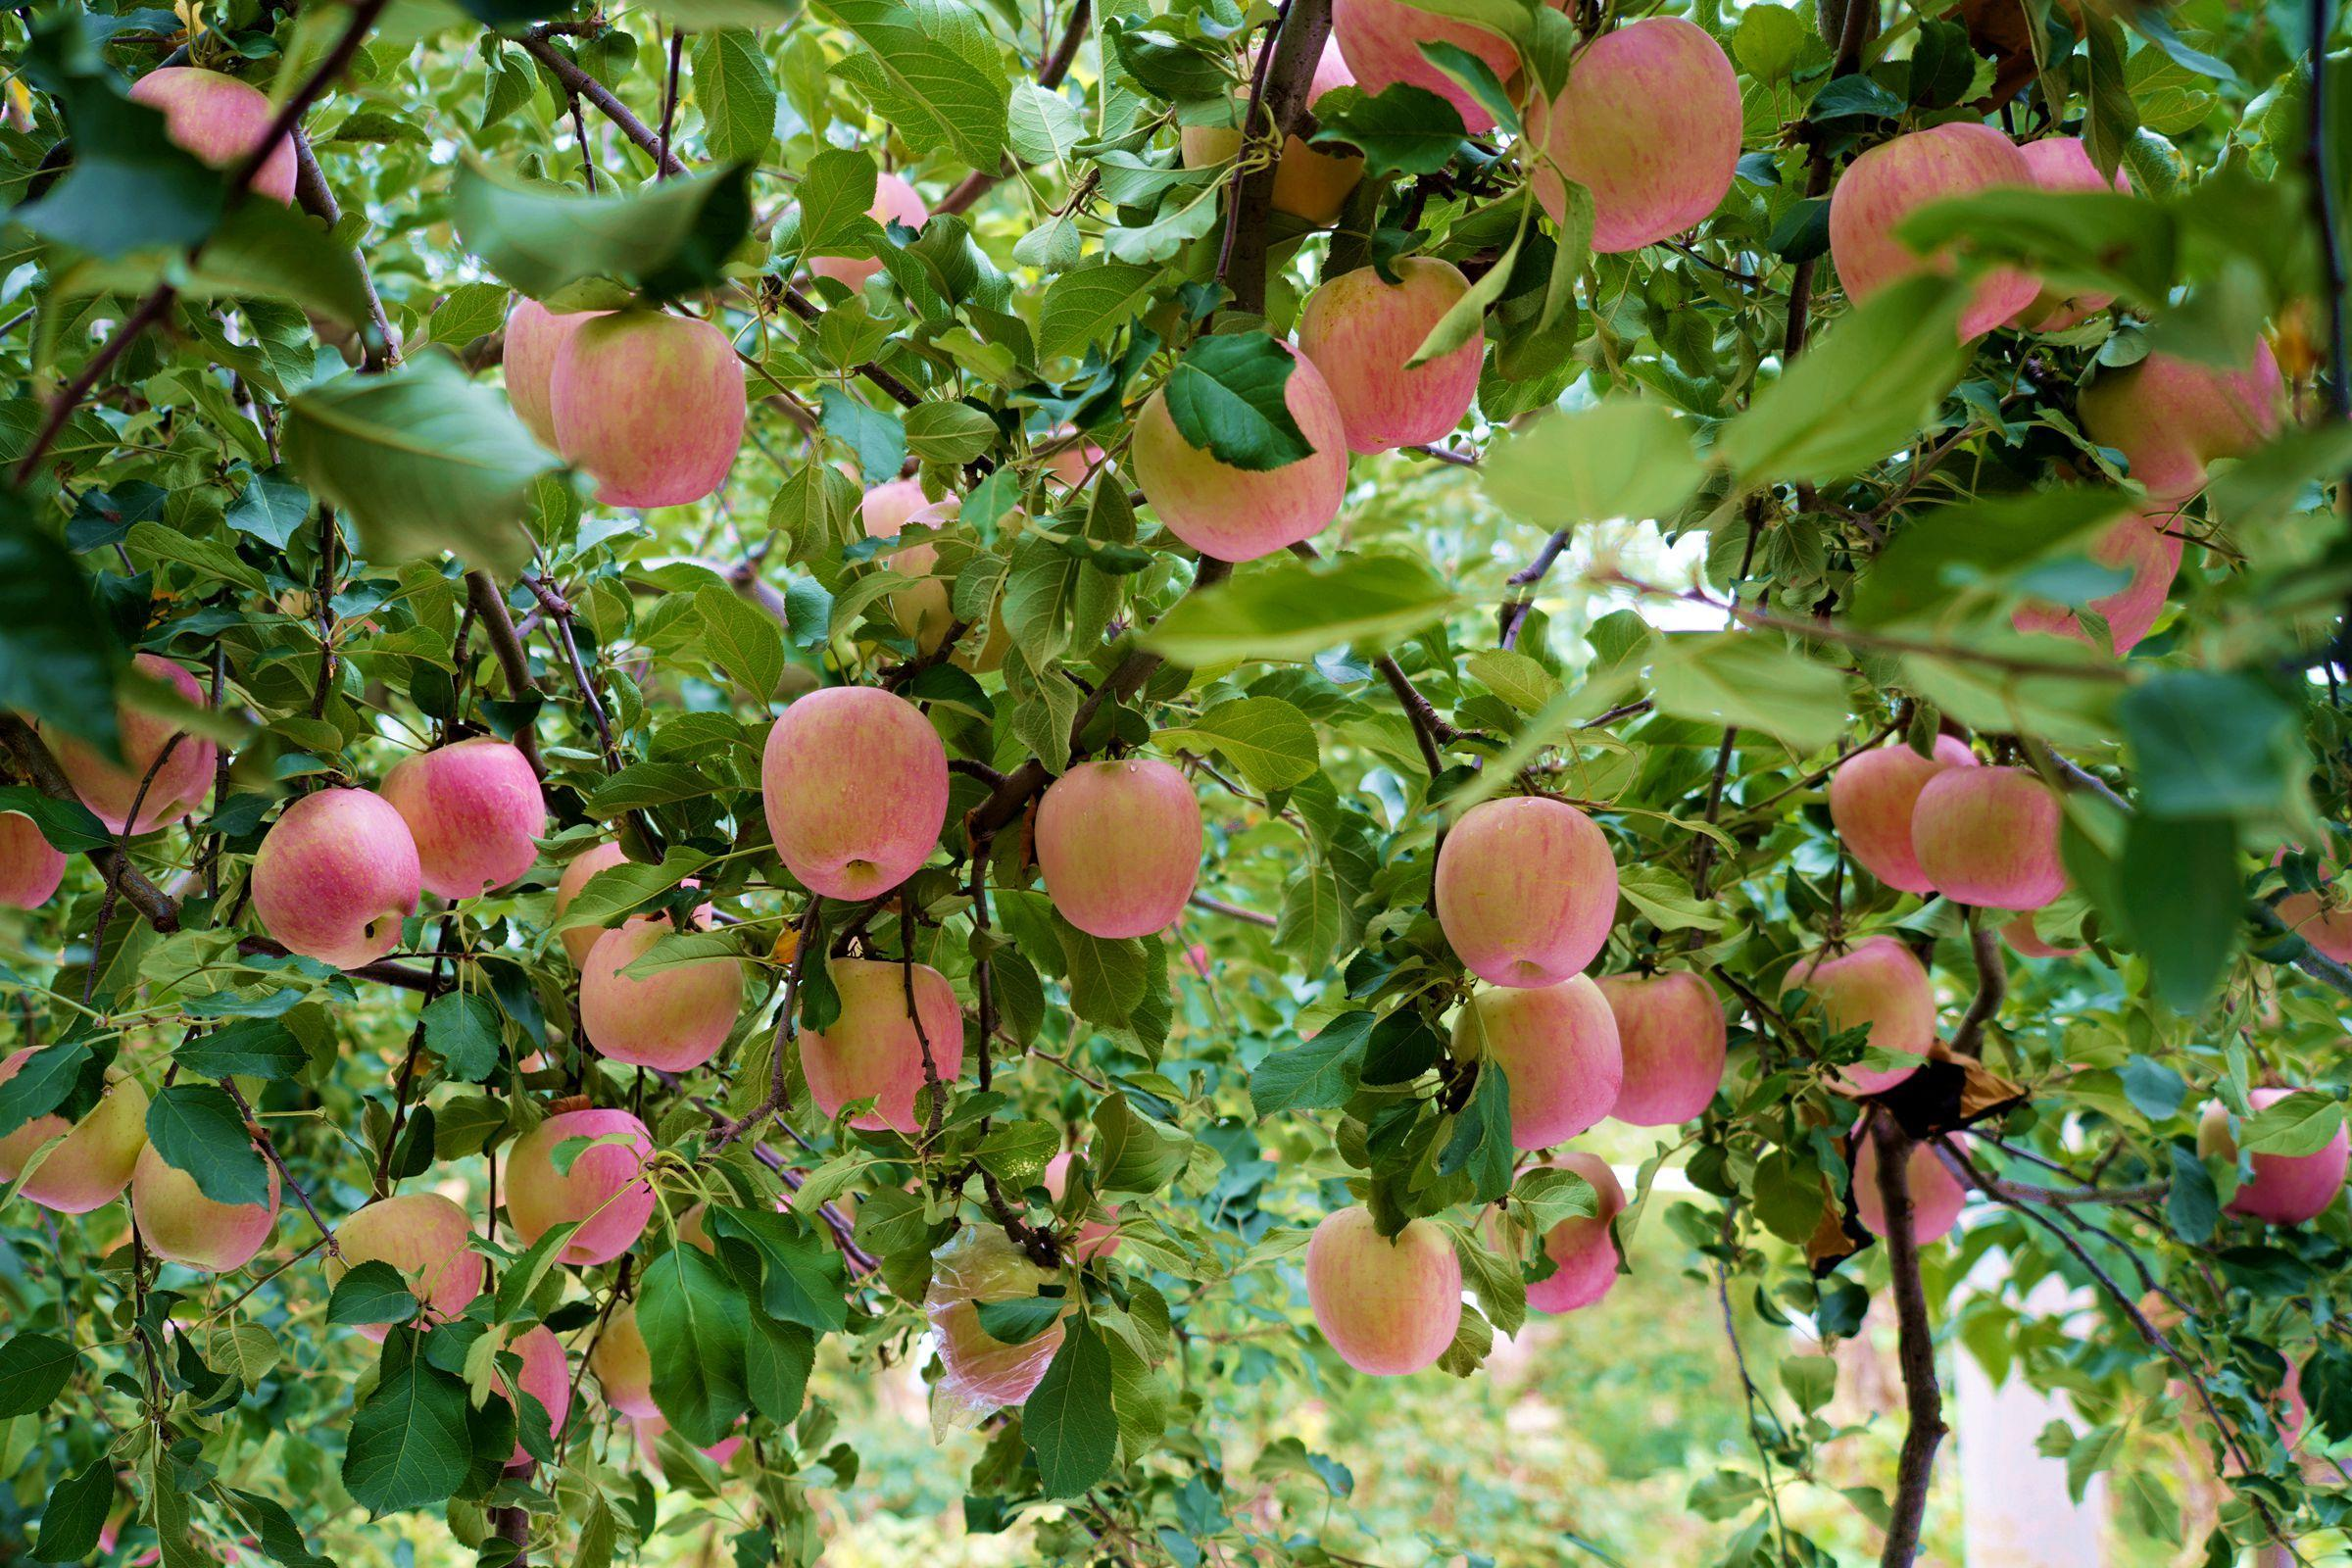apple: (1522, 14, 1747, 255), (497, 296, 742, 514), (1830, 121, 2051, 353), (1130, 345, 1353, 565), (1290, 247, 1489, 476), (758, 681, 948, 899), (1426, 789, 1619, 985), (1438, 961, 1629, 1157), (250, 780, 422, 969), (800, 952, 976, 1134), (1031, 756, 1199, 936), (129, 1083, 280, 1279), (373, 733, 544, 901), (1302, 1199, 1461, 1379), (574, 920, 745, 1073), (121, 63, 298, 208), (1580, 966, 1729, 1134), (1909, 758, 2065, 908), (2194, 1083, 2350, 1223), (1785, 933, 1934, 1078), (1830, 738, 1963, 892)
